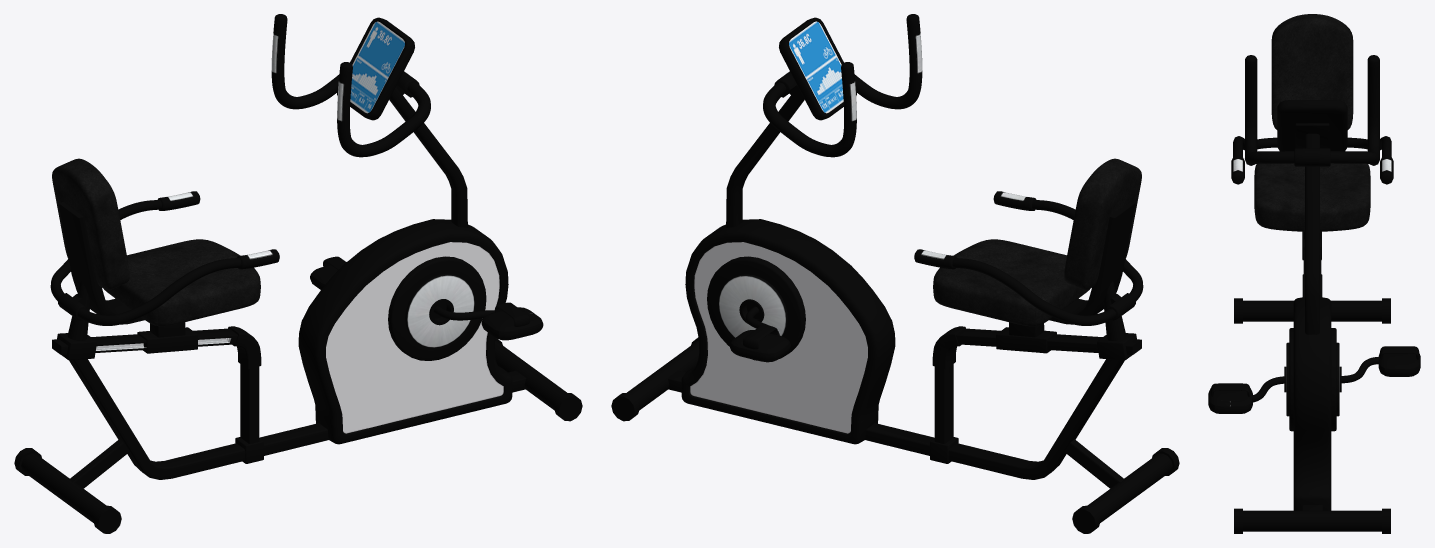
Rendered from Cylce_Pro_Max.glb.
The picture shows the model from 3 angles, left to right: view 1: azimuth 30°, elevation 25°; view 2: azimuth 150°, elevation 25°; view 3: azimuth 270°, elevation 25°; orthographic projection. The views are drawn at different scales.
Parts seen in each view (by area): view 1: Cylinder.070_Material.002_0; view 2: Cylinder.070_Material.002_0; view 3: Cylinder.070_Material.002_0.
Part boxes in pixels (bbox=[...]): Cylinder.070_Material.002_0: bbox=[14, 14, 582, 533]; Cylinder.070_Material.002_0: bbox=[611, 14, 1179, 533]; Cylinder.070_Material.002_0: bbox=[1208, 14, 1420, 533].
Size of the model in its own units: 1.91 by 1.52 by 0.7726.
1 material, 1 textured.
